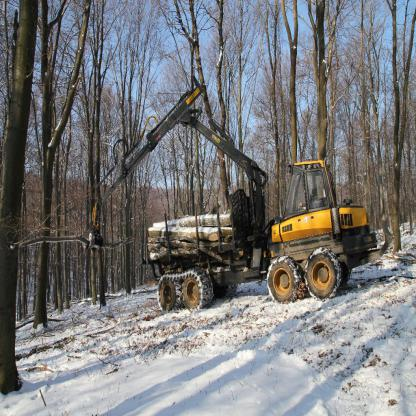Truck: (82, 72, 398, 314)
